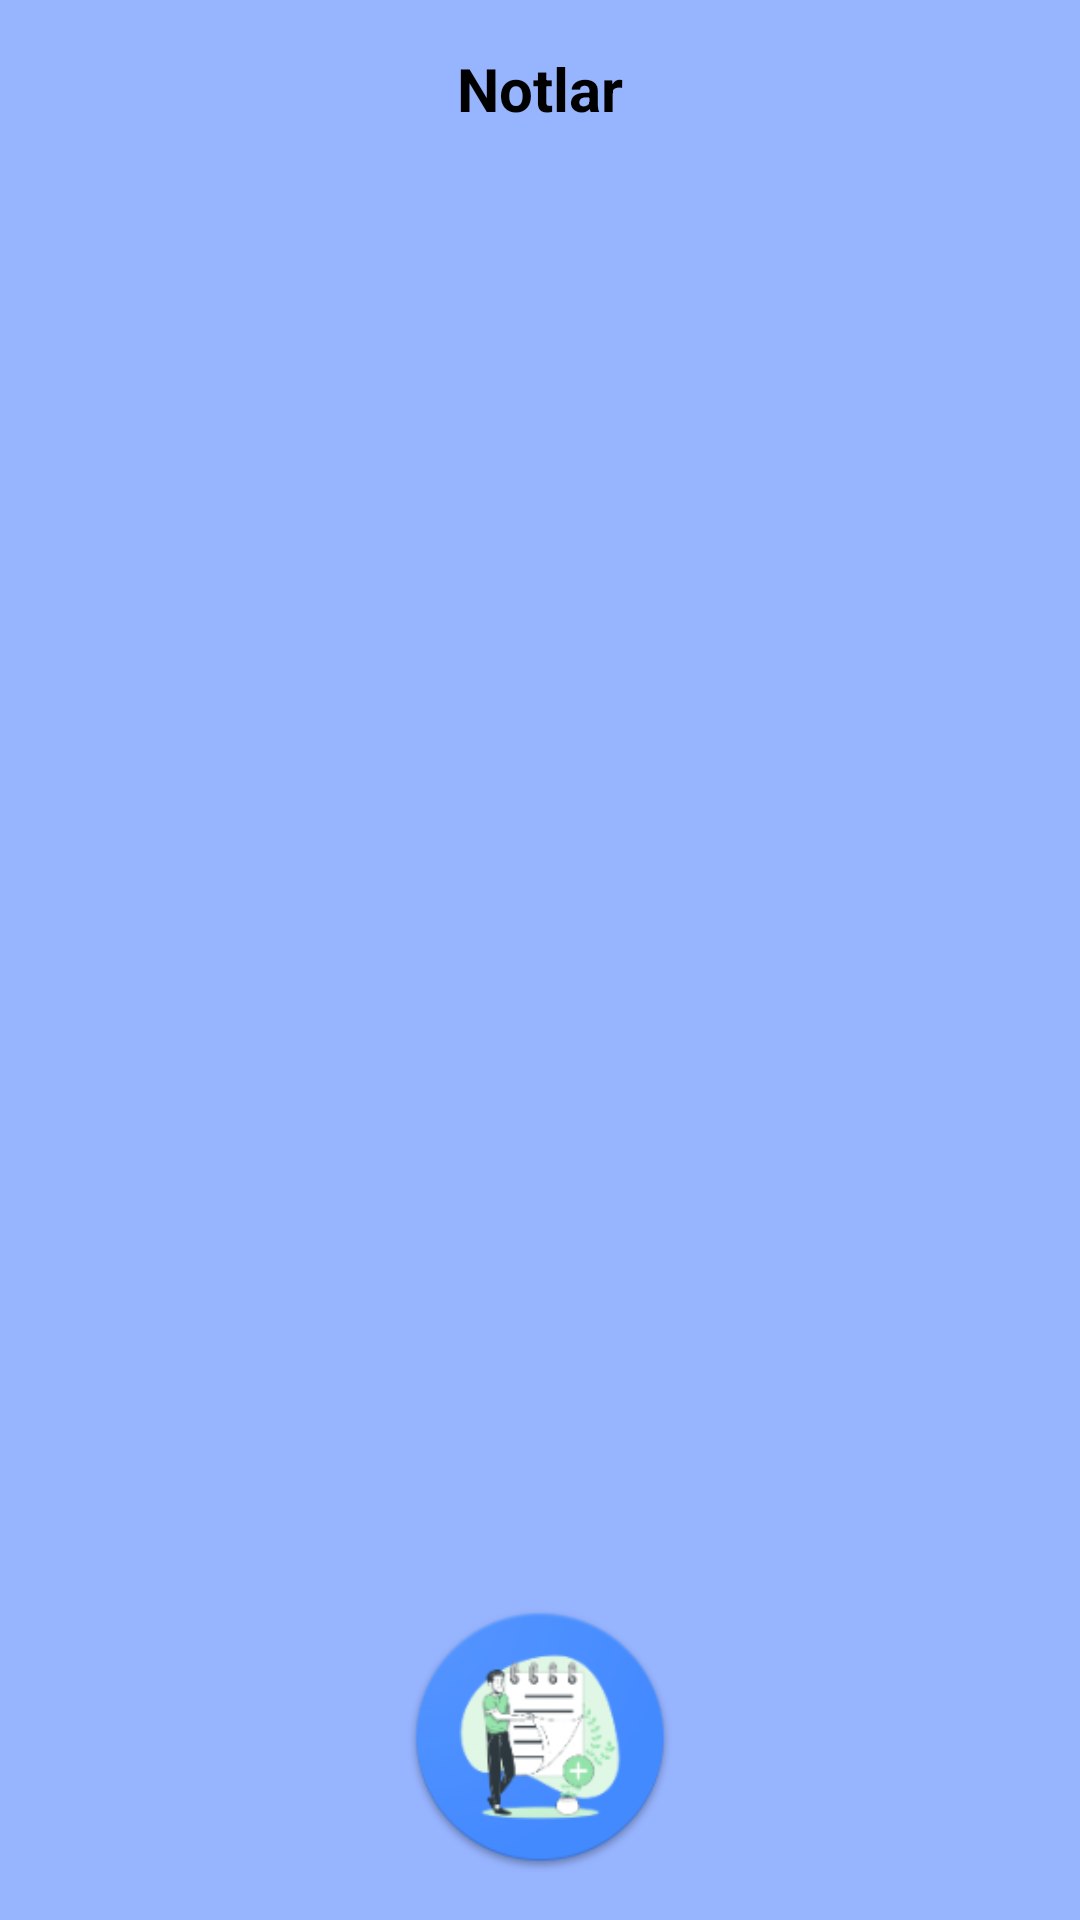

Where to tap for icons on this 1080px x 1920px app screen, as point (x, y):
Not Ekle: point (540, 1740)
